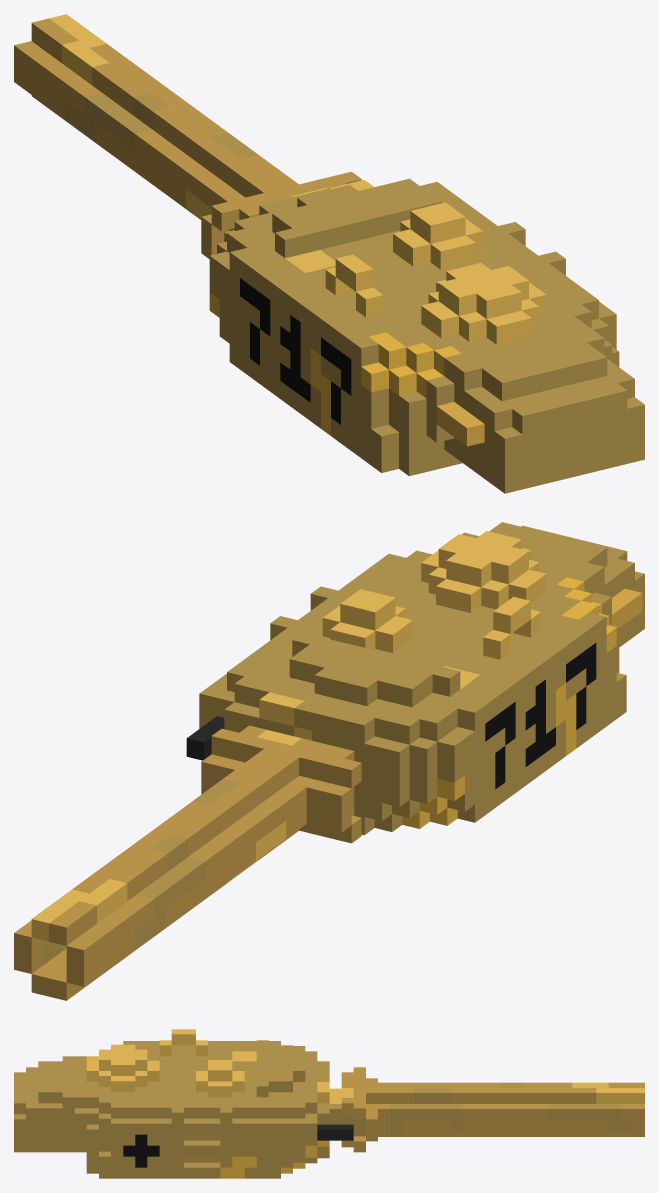
File: Tank-0.obj
3 renders of one model, top to bottom at view 1: azimuth 30°, elevation 25°; view 2: azimuth 150°, elevation 25°; view 3: azimuth 270°, elevation 25°, orthographic. The views are drawn at different scales.
Size of the model in its own units: 1.4 by 0.8 by 5.2.
Materials: 1 (1 with a texture image).
